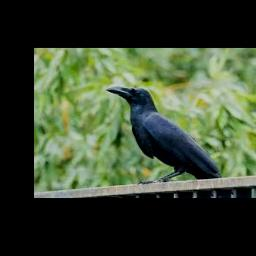Crow: (105, 86, 232, 198)
